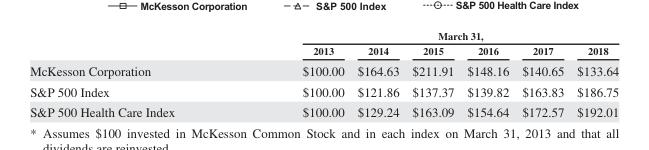table: (29, 29, 618, 119)
table column: (29, 29, 237, 119), (237, 29, 350, 119), (350, 29, 405, 119), (405, 29, 460, 119), (514, 29, 569, 119), (460, 29, 514, 119), (569, 29, 618, 119)
table column header: (29, 29, 618, 59)
table row: (29, 59, 618, 80), (29, 80, 618, 101), (29, 101, 618, 119), (29, 42, 618, 59), (29, 29, 618, 42)
table spanning cell: (237, 29, 618, 42)
